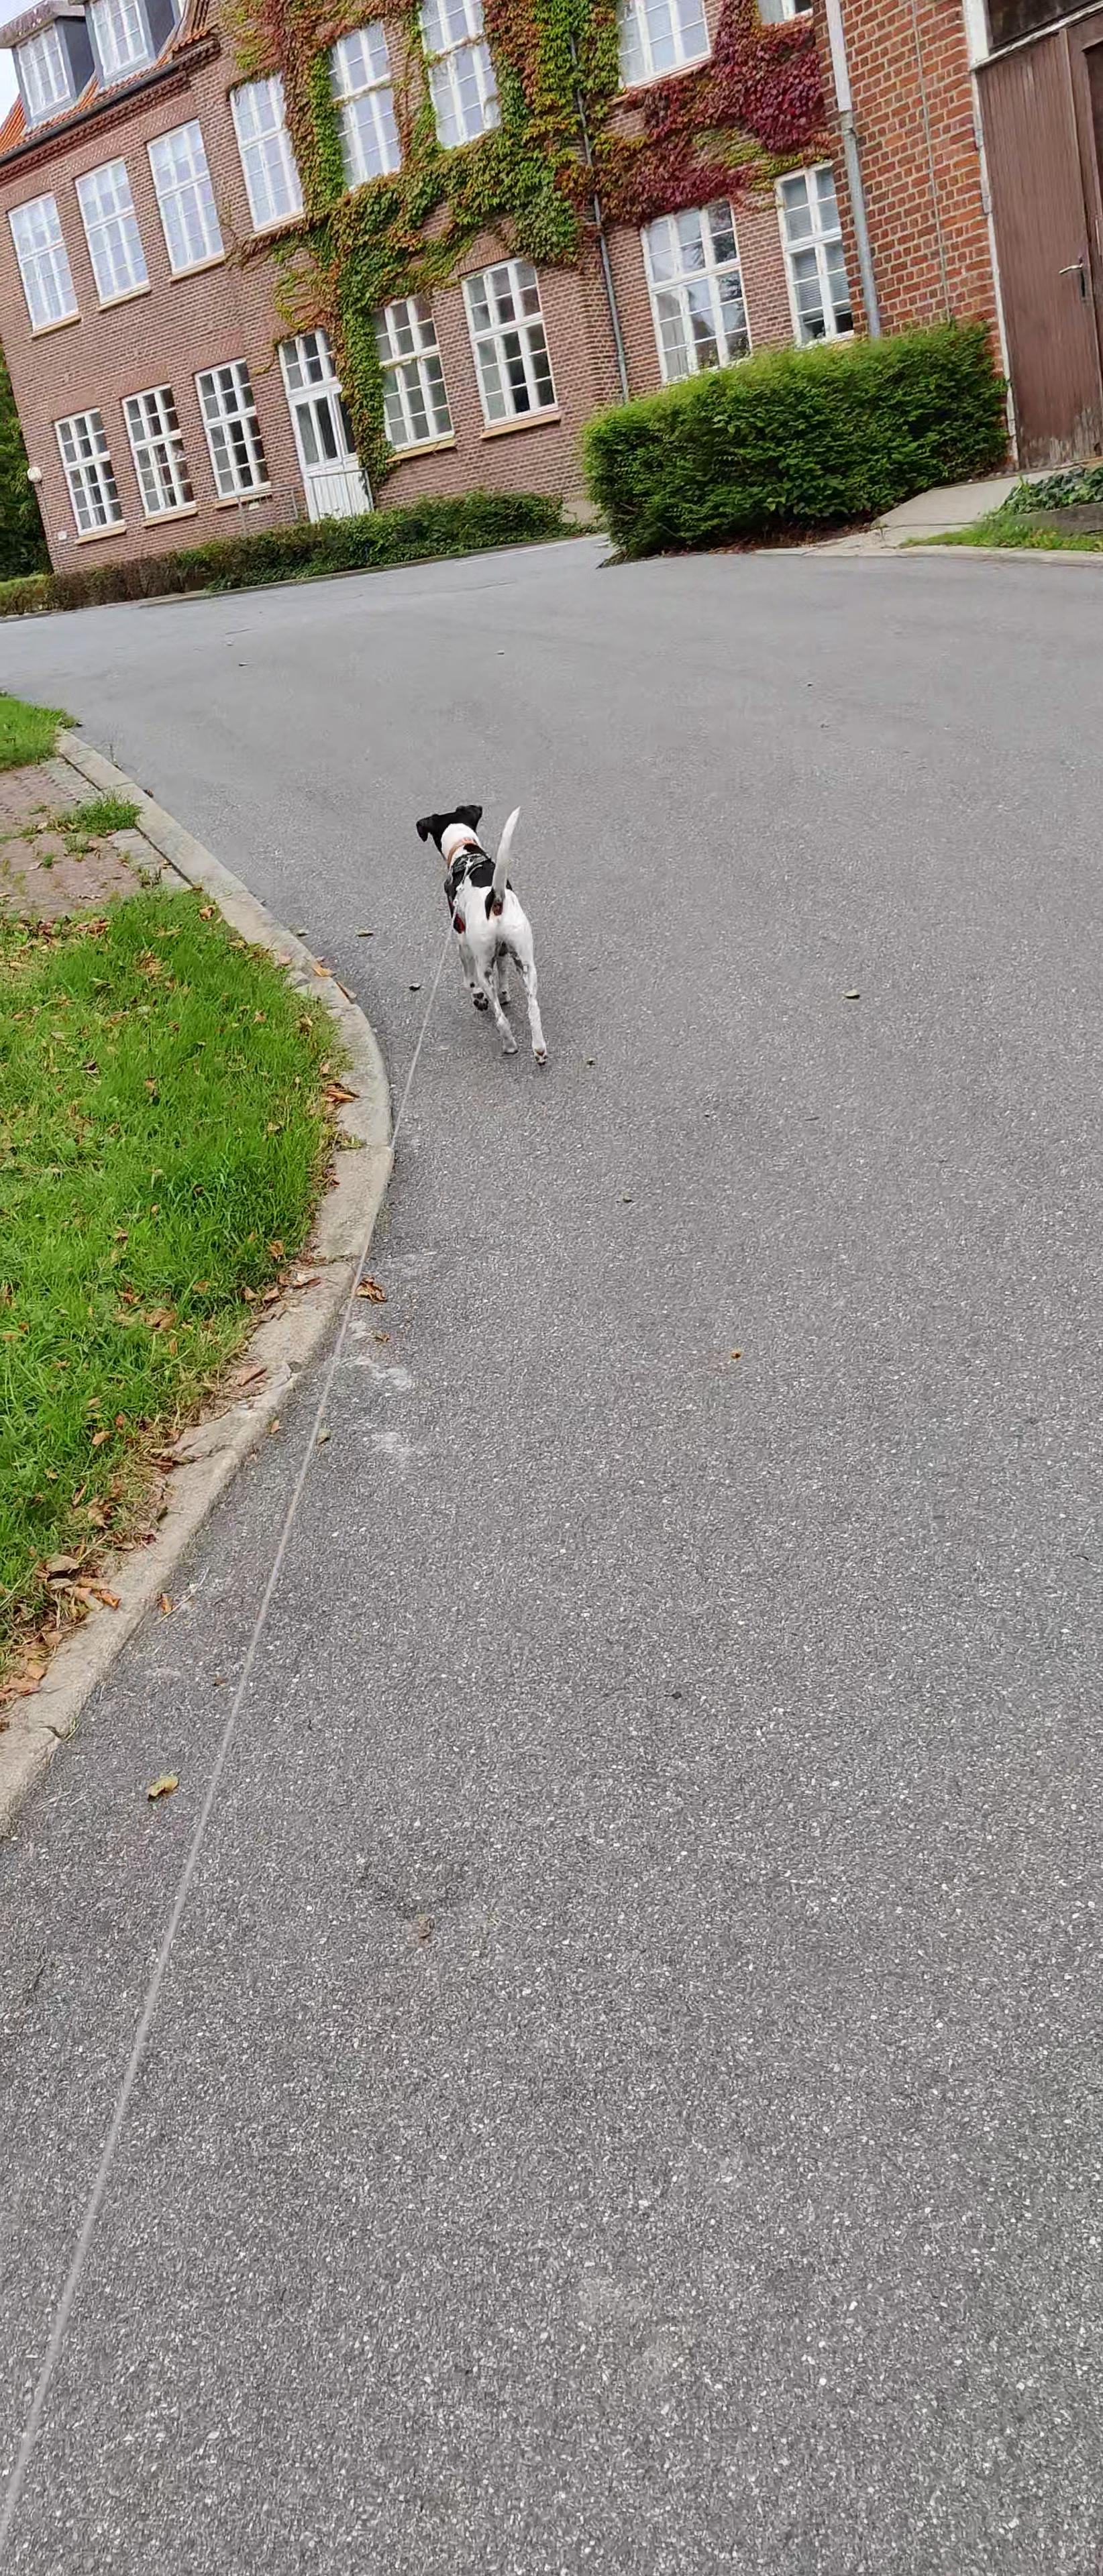Dog: (411, 787, 564, 1073)
